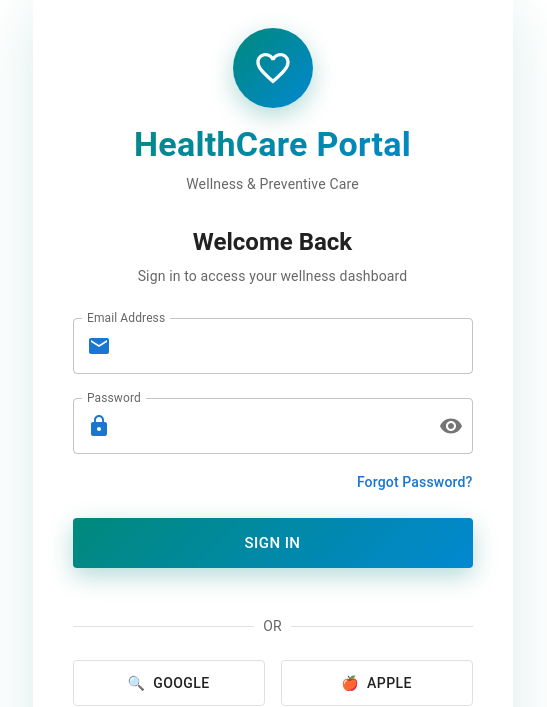
Test: LoginScreen Component › Email Input Validation › shows error for empty email
Click the button "Sign In" at coordinates (272, 543), box [72, 518, 472, 568]
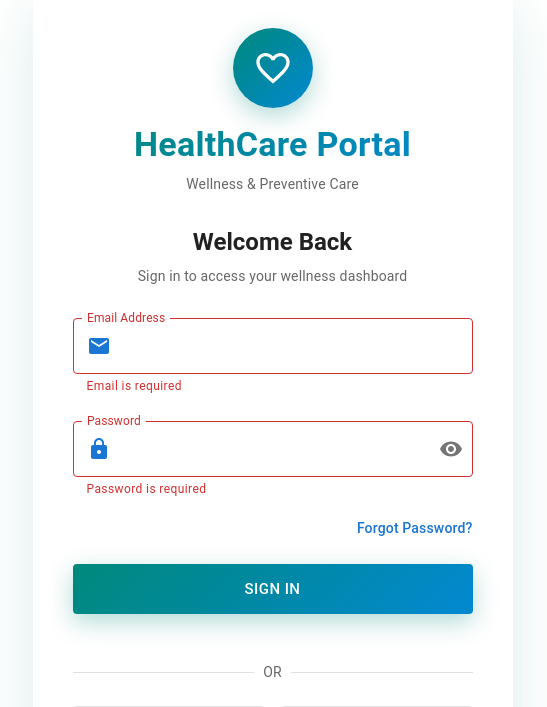
Expected: the text "Email is required" is shown, [86, 379, 182, 393]
